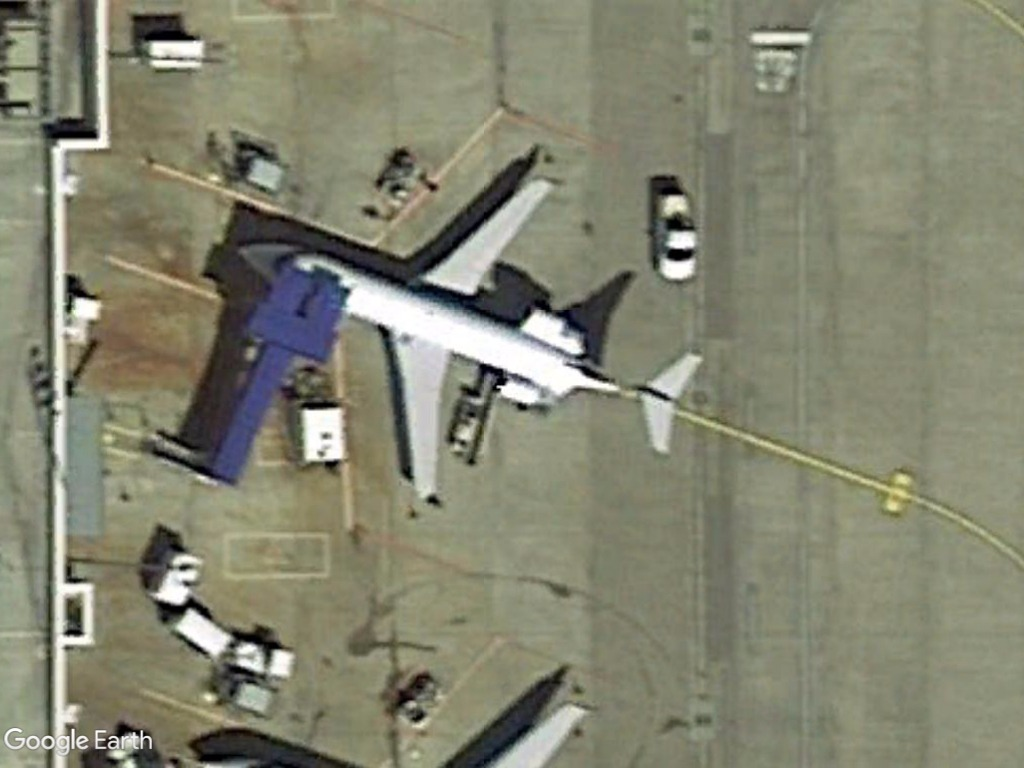chartered: (239, 166, 703, 516)
other: (643, 180, 707, 286)
